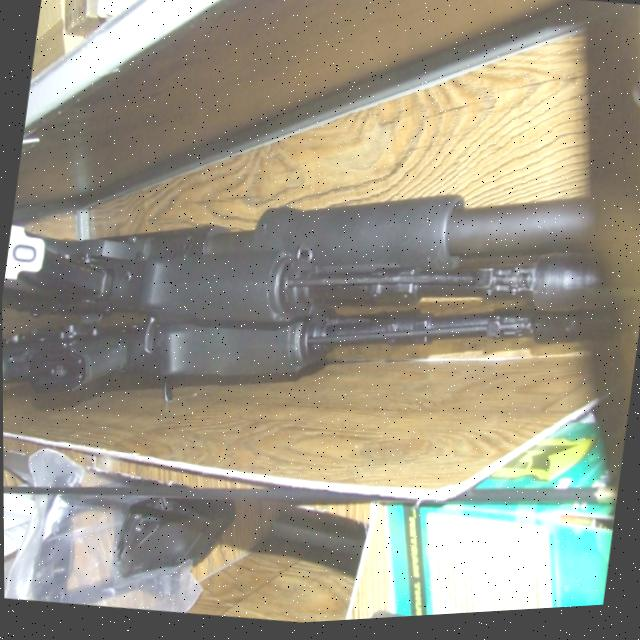firearm: (1, 214, 640, 485), (1, 161, 640, 410)
